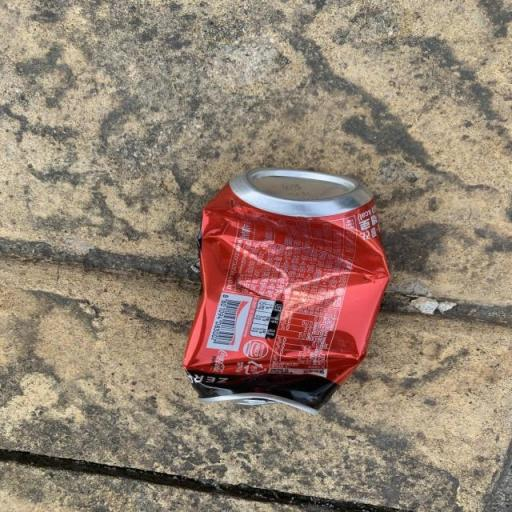metal: (142, 150, 436, 440)
